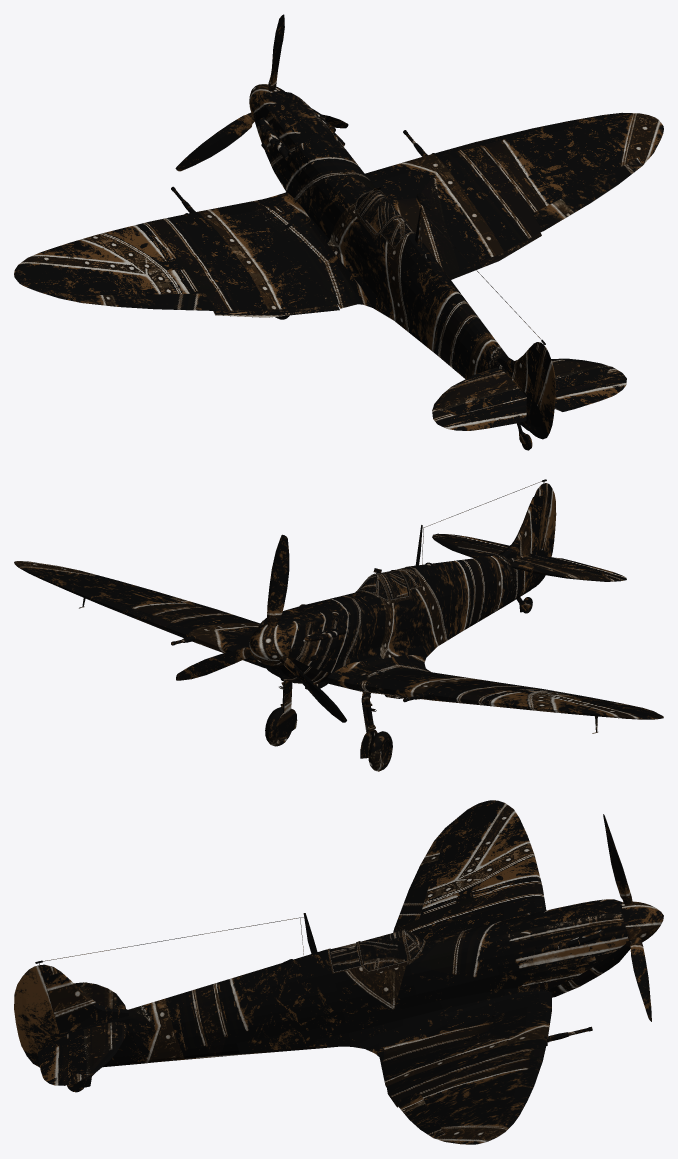
File: spitfire.obj
The picture shows the model from 3 angles, top to bottom: view 1: azimuth 30°, elevation 25°; view 2: azimuth 150°, elevation 25°; view 3: azimuth 270°, elevation 25°; orthographic projection. The views are drawn at different scales.
Parts seen in each view (by area): view 1: spitfire; view 2: spitfire; view 3: spitfire.
Boxes of the visible parts, x1,y1,x2,y2 form: spitfire: [14, 14, 663, 450]; spitfire: [14, 479, 663, 771]; spitfire: [14, 800, 663, 1144].
Bounding box in the file's own units: 117 × 44.4 × 94.06.
1 material, 1 textured.
